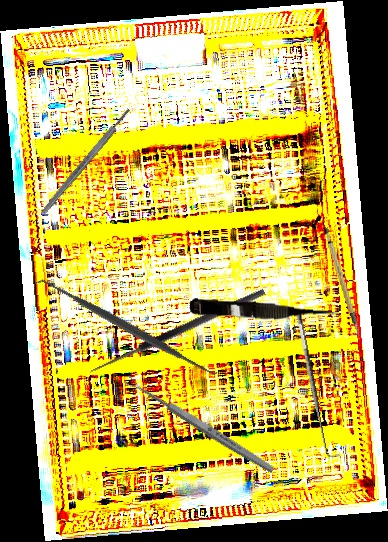Hook Surgical: (88, 287, 270, 385), (294, 311, 341, 461)
Micro Scissor: (189, 298, 341, 326)
Scalpel Handle: (39, 107, 133, 215), (321, 224, 361, 340)
Spatula Surgical: (32, 268, 221, 386)
Surgical Spoon: (123, 373, 276, 476)
